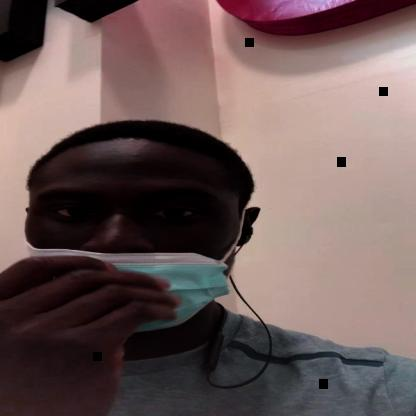mask: (22, 162, 249, 333)
